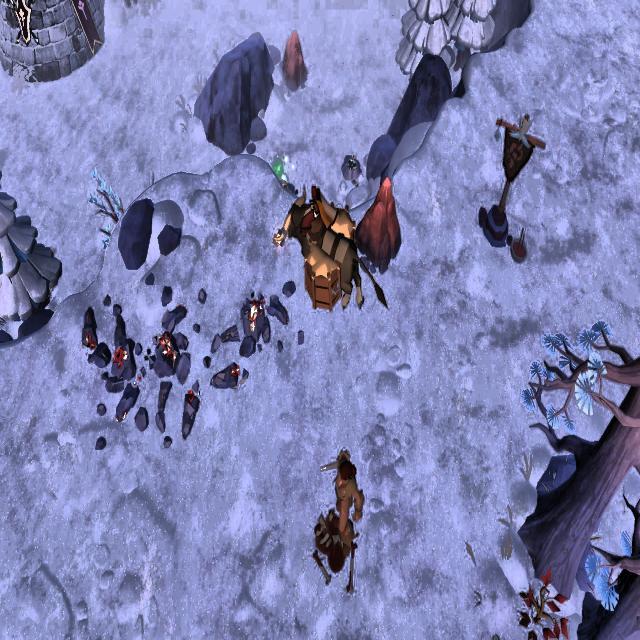enemy_factionKeeper: (323, 448, 362, 555)
rock_t5: (357, 170, 402, 277), (279, 28, 309, 94)
